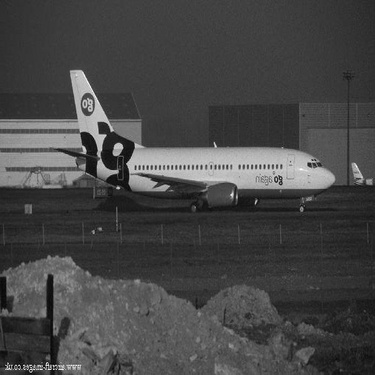airplane: (33, 56, 344, 219), (346, 155, 371, 193)
